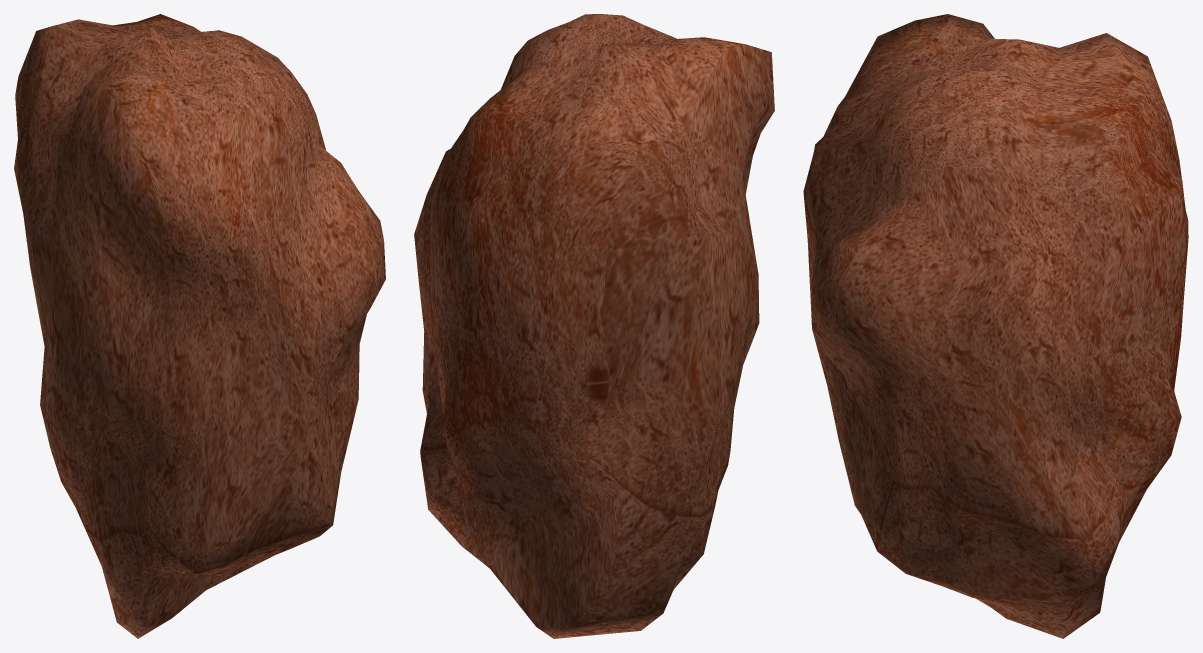
Rendered from Rock_03.fbx.
3 renders of one model, left to right at view 1: azimuth 30°, elevation 25°; view 2: azimuth 150°, elevation 25°; view 3: azimuth 270°, elevation 25°, orthographic. The views are drawn at different scales.
Parts seen in each view (by area): view 1: Rock_01; view 2: Rock_01; view 3: Rock_01.
Boxes of the visible parts, x1,y1,x2,y2 form: Rock_01: (14,14,385,638); Rock_01: (414,14,774,638); Rock_01: (803,14,1188,638).
Bounding box in the file's own units: 10.52 × 19.66 × 11.75.
